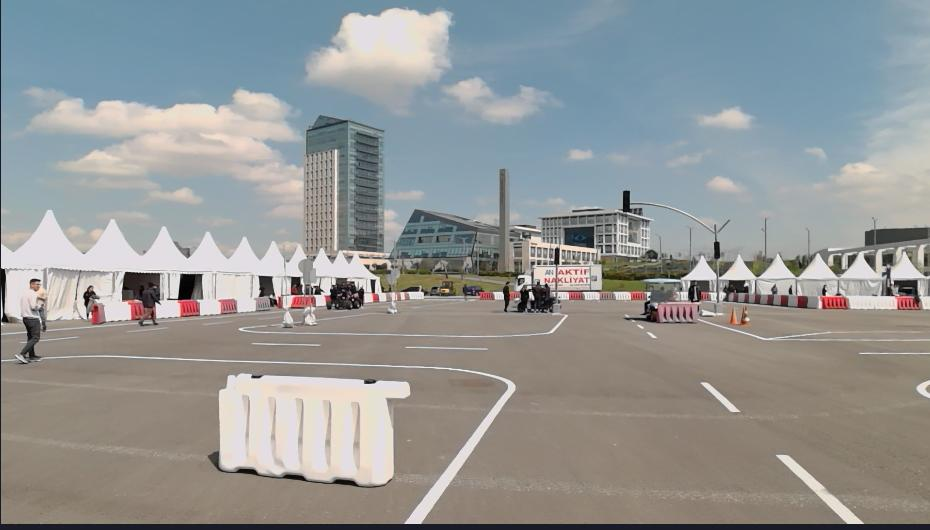nesne: (47, 302, 929, 526), (405, 300, 863, 525), (46, 352, 515, 526), (644, 315, 928, 527), (214, 374, 408, 483), (236, 311, 568, 337), (774, 452, 863, 523), (698, 317, 928, 340), (730, 291, 929, 310), (15, 277, 46, 362), (515, 264, 600, 292), (159, 308, 283, 322), (640, 279, 680, 322), (728, 291, 821, 308), (326, 276, 364, 309), (698, 380, 738, 411), (526, 279, 560, 313), (137, 282, 161, 326), (556, 290, 648, 301), (46, 320, 137, 331), (657, 301, 698, 322), (848, 294, 896, 308), (82, 285, 102, 317), (102, 302, 131, 321), (687, 276, 701, 314), (404, 344, 488, 350), (155, 301, 180, 319), (857, 349, 929, 355), (252, 340, 320, 346), (197, 299, 222, 315), (896, 295, 924, 309), (180, 299, 202, 316), (821, 295, 847, 309), (914, 376, 929, 400), (291, 293, 315, 307), (517, 283, 529, 311), (236, 297, 256, 313), (281, 308, 296, 328), (501, 280, 511, 310), (93, 303, 107, 323), (219, 298, 237, 313), (438, 280, 456, 295), (300, 306, 316, 322), (131, 303, 144, 322), (466, 284, 485, 296), (386, 297, 399, 314), (728, 303, 739, 323), (741, 301, 751, 323), (254, 298, 273, 309), (805, 295, 821, 307), (400, 292, 423, 300), (785, 293, 797, 307), (722, 283, 730, 302), (280, 295, 292, 307), (583, 291, 599, 300), (599, 291, 615, 300), (614, 291, 630, 300), (362, 292, 375, 303), (796, 294, 807, 307), (629, 292, 646, 300), (568, 292, 584, 300), (461, 282, 468, 300), (709, 292, 723, 301), (645, 329, 659, 338), (771, 293, 781, 305), (314, 296, 326, 305), (478, 292, 493, 299), (410, 292, 423, 300), (556, 291, 569, 299), (291, 283, 302, 292), (510, 290, 521, 299), (680, 289, 688, 301), (780, 294, 788, 306), (923, 295, 930, 308), (699, 291, 709, 300), (313, 285, 324, 293), (429, 285, 440, 293), (759, 294, 767, 305), (304, 283, 313, 292), (492, 292, 503, 299), (371, 292, 379, 301), (737, 291, 744, 301), (766, 294, 773, 304), (752, 294, 759, 303), (404, 293, 412, 300), (748, 293, 754, 302), (728, 292, 733, 301), (379, 294, 387, 299), (743, 293, 748, 301), (733, 293, 737, 302), (399, 292, 404, 299)
